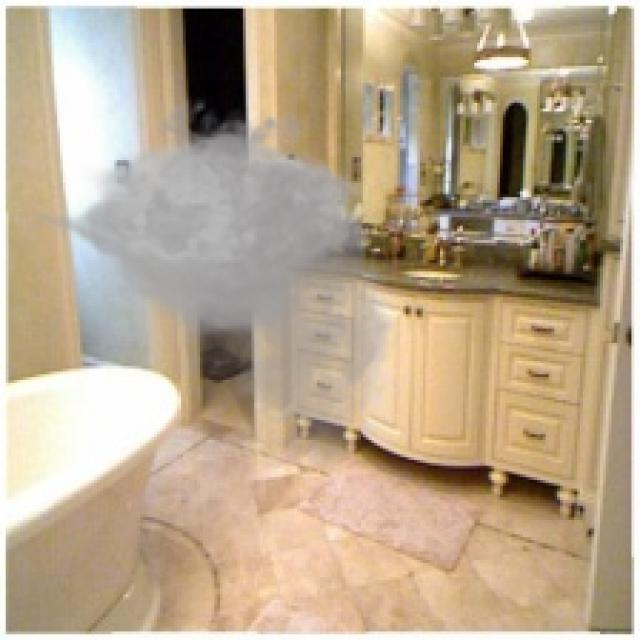smoke: (26, 86, 411, 474)
